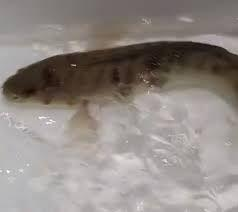Snakehead: (5, 28, 238, 143)
